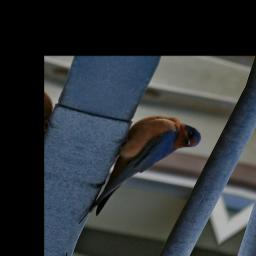Swallow: (77, 106, 207, 244)
